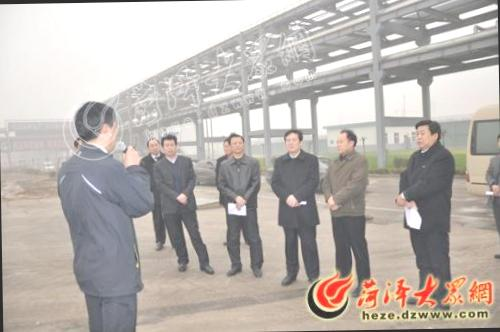no_helmet: (73, 98, 118, 156), (412, 117, 443, 152), (331, 128, 360, 156), (158, 132, 181, 160), (282, 128, 304, 155), (224, 130, 244, 156), (146, 134, 160, 156)
